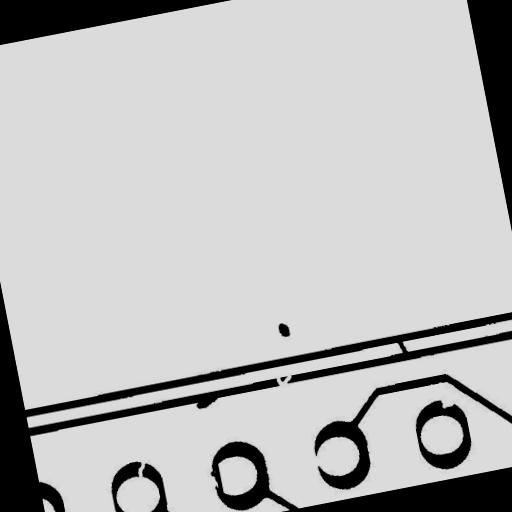copper: (268, 313, 298, 346)
mousebite: (432, 388, 462, 418)
open: (265, 360, 302, 397), (127, 452, 156, 486)
short: (200, 452, 233, 506), (385, 326, 418, 366)
spur: (186, 382, 230, 418)
